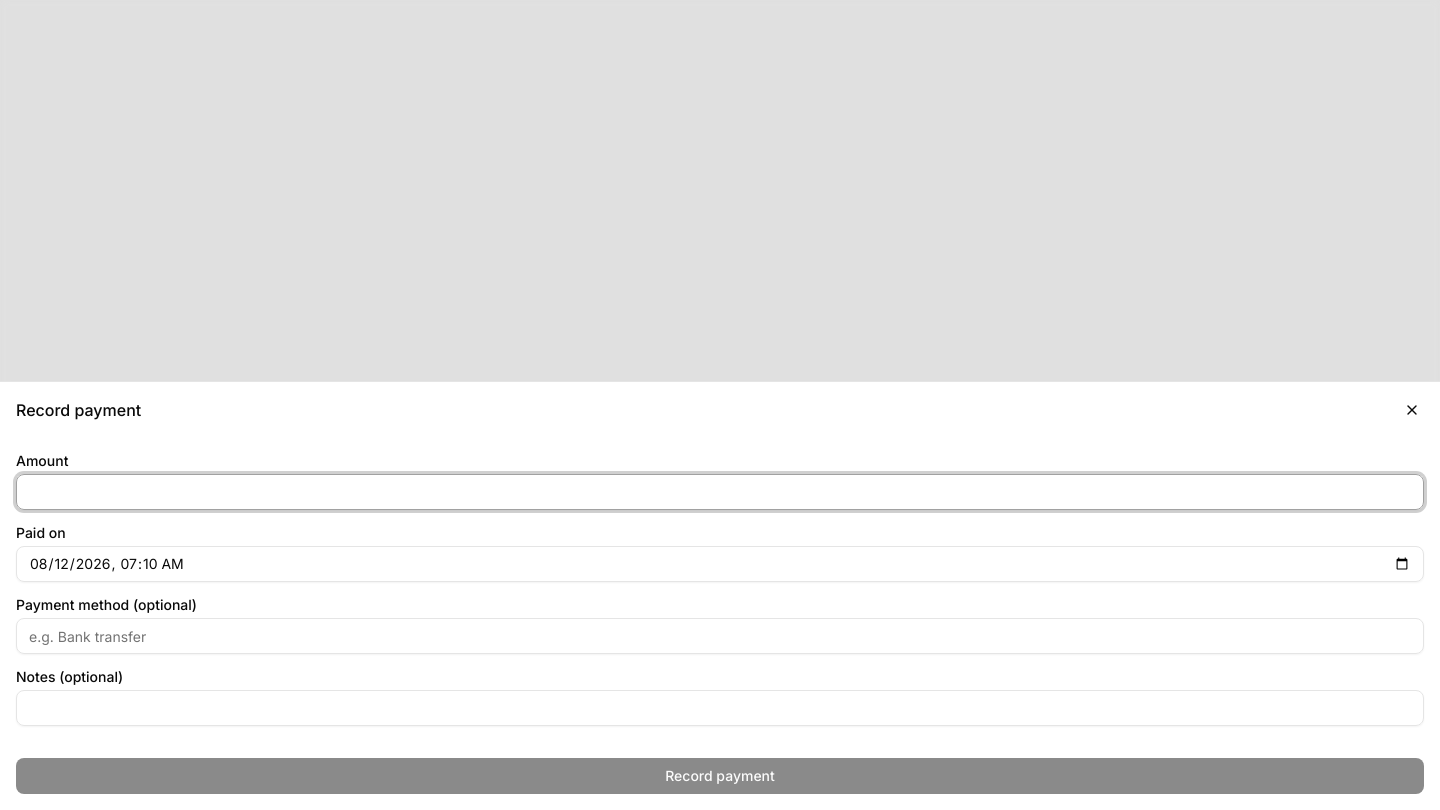
Test: RecordPaymentForm › disables the submit button until a positive amount and a paid-on date are set
The image size is (1440, 810).
Expected: the button "Record payment" is disabled, [16, 758, 1424, 794]
Type "300" into the field labelled "Amount" at point(720, 492), box [16, 474, 1424, 510]
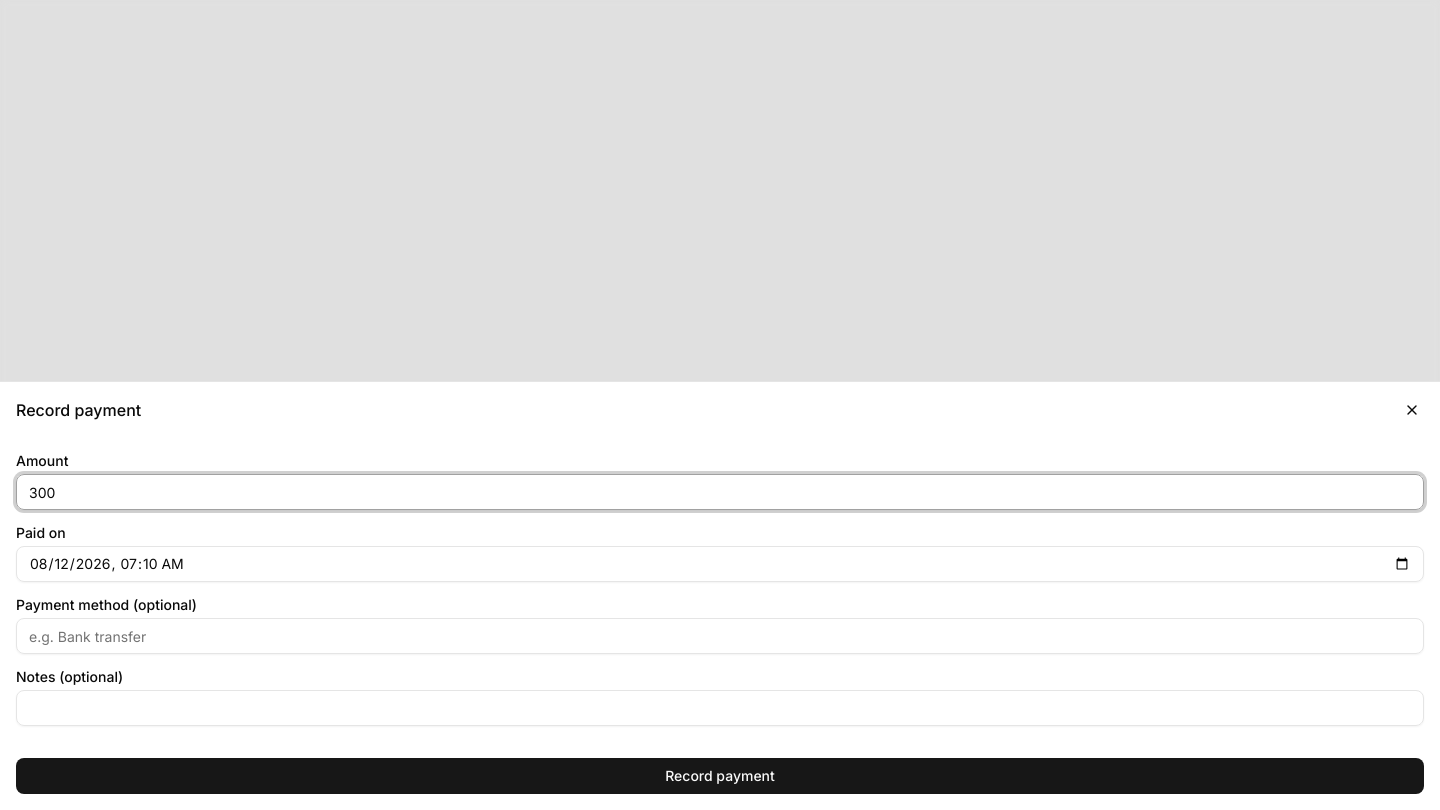
Now the button "Record payment" is enabled, box [16, 758, 1424, 794]
Clear the field labelled "Paid on" at point(720, 564), box [16, 546, 1424, 582]
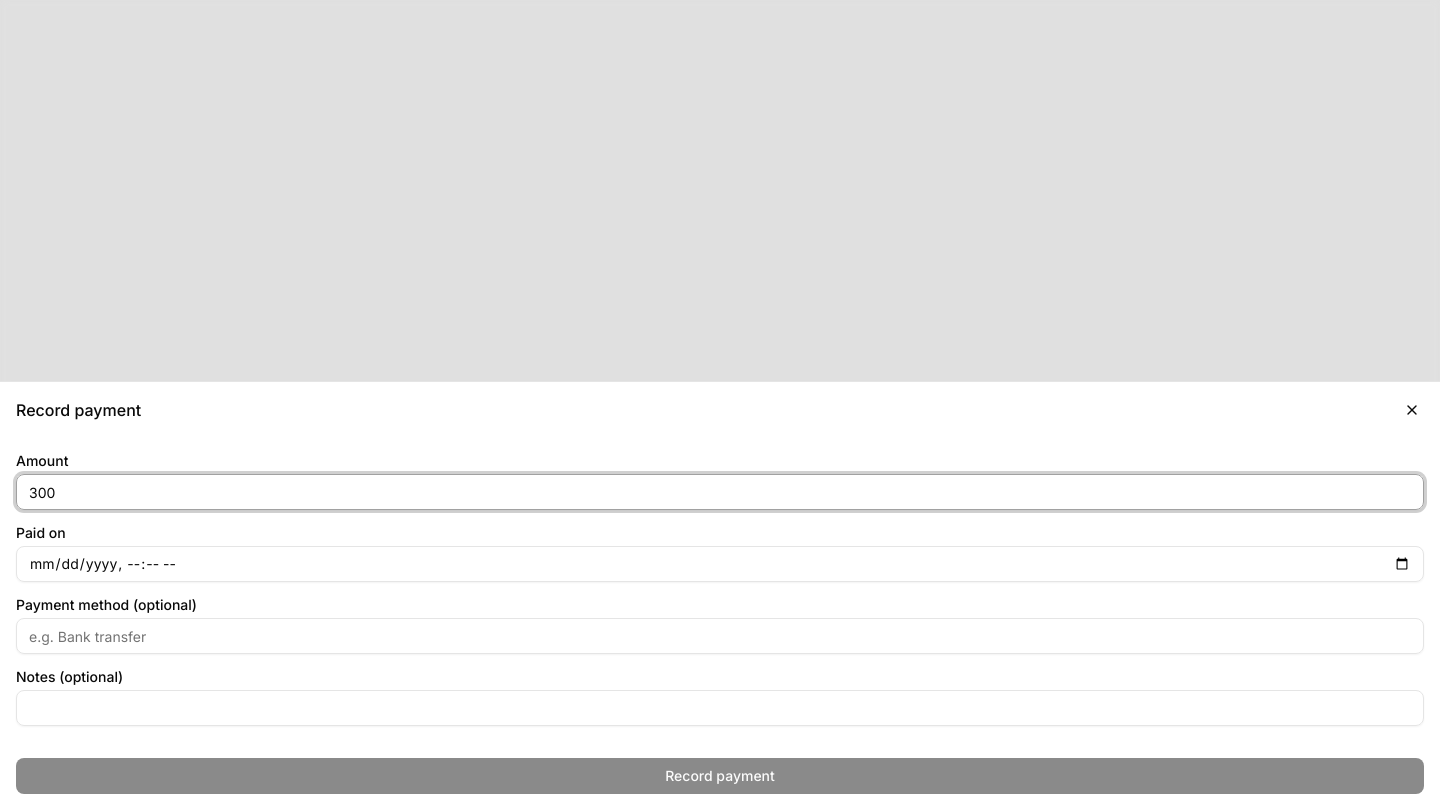
Now the button "Record payment" is disabled, box [16, 758, 1424, 794]
